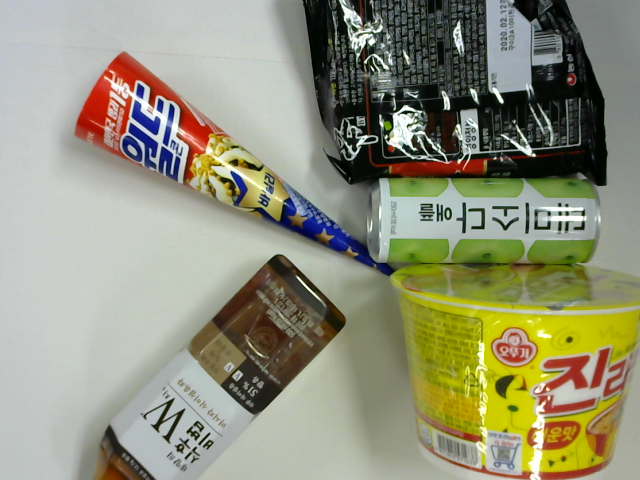Demisoda_Apple_Can_250ml: (361, 178, 606, 277)
Jinlamyeon_Hot_Taste_Large_Cup: (387, 255, 638, 480)
Post-meal_recipe_W_tea_500ml: (97, 252, 343, 480)
Sinramen_Black: (306, 1, 605, 177)
World_Cone_Banila: (73, 54, 415, 278)
